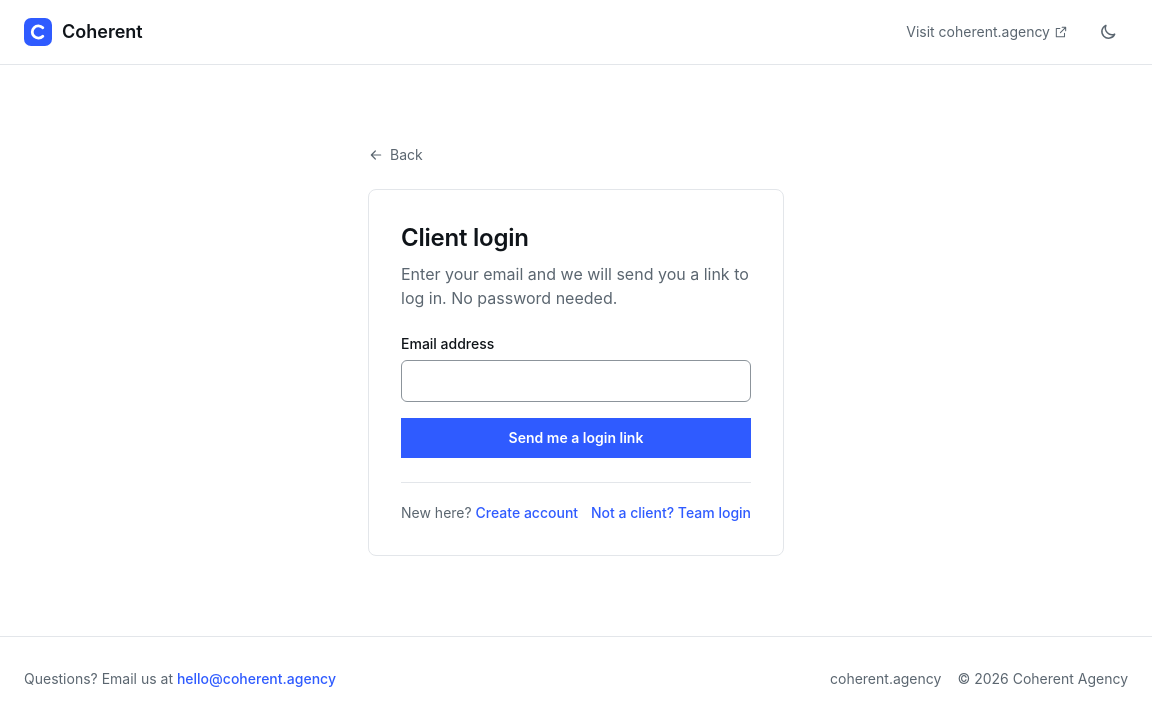
Test case: login › the wrong-role link switches between client and team login
This screenshot has width=1152, height=720.
What coordinates should you click on to do the following:
click the link "Not a client? Team login"
I would click on:
 (671, 513)
Its box is [591,503,751,523].
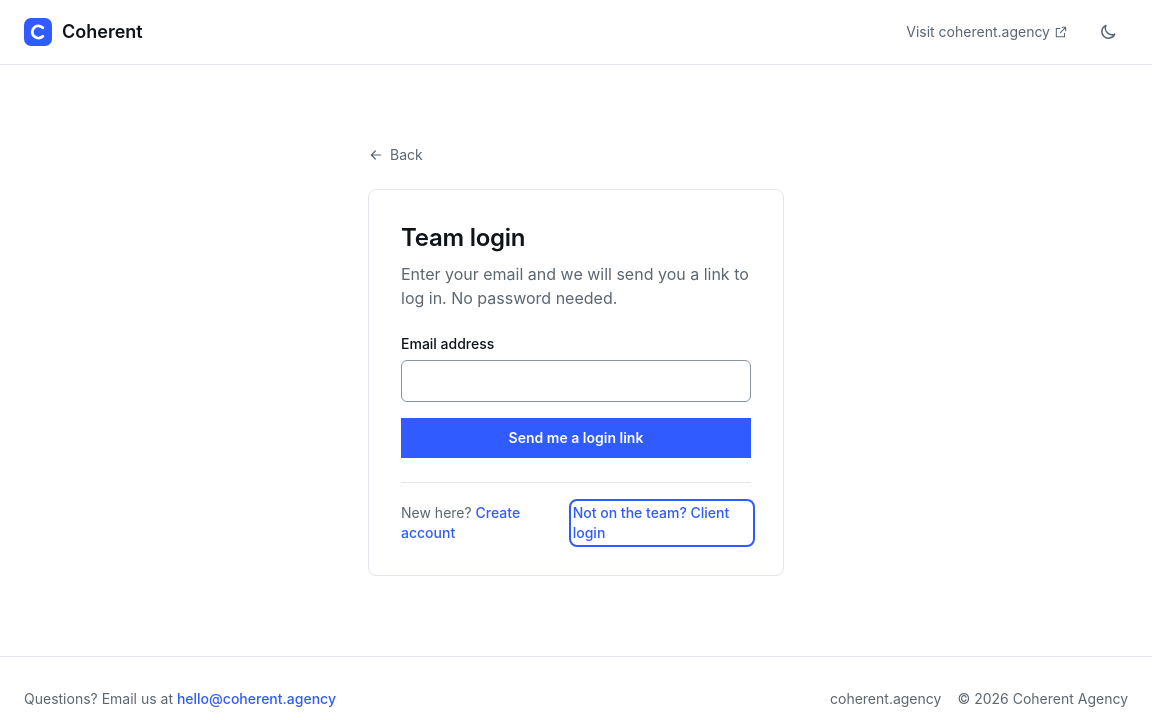
Check: the heading "Team login" is shown, box [401,223,525,252]
